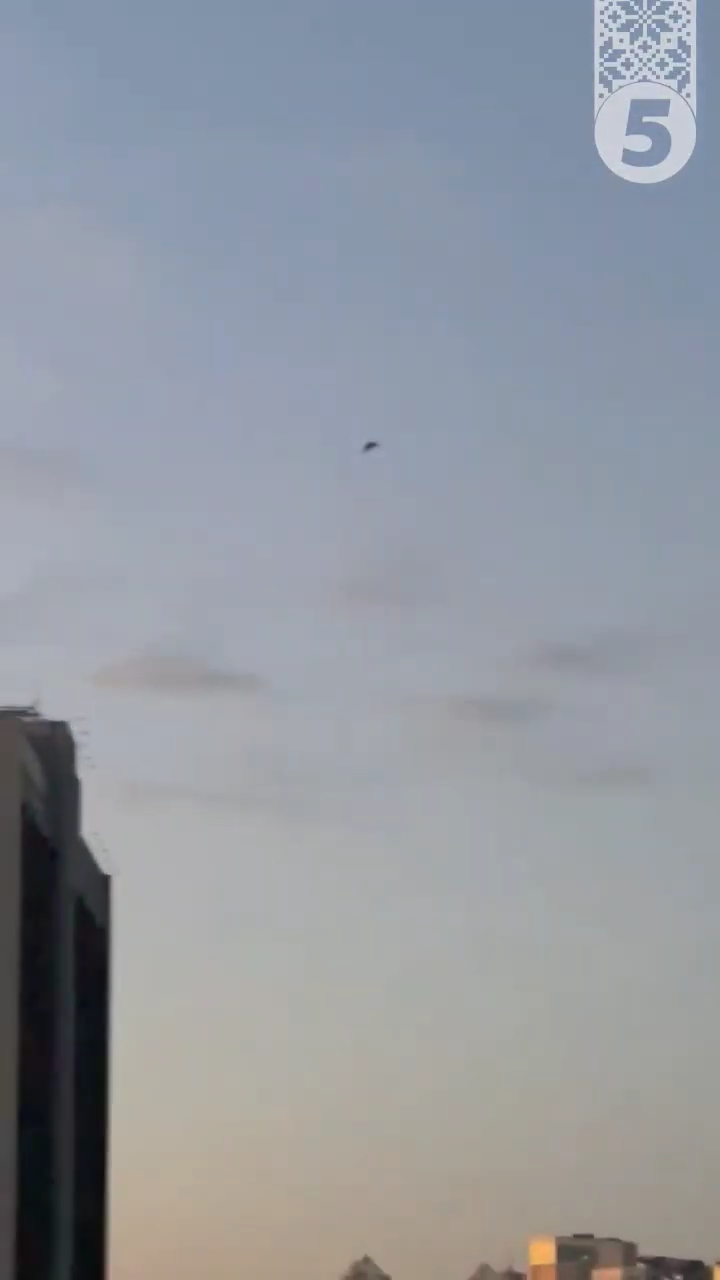shahed: (360, 437, 382, 456)
